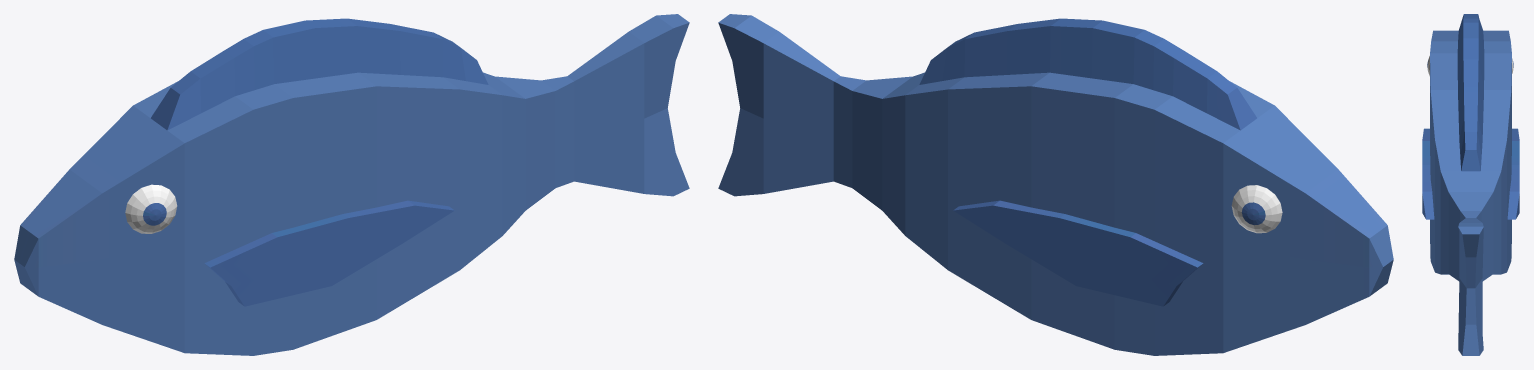
Rendered from Fish.fbx.
3 views of the same model, side by side, from view 1: azimuth 30°, elevation 25°; view 2: azimuth 150°, elevation 25°; view 3: azimuth 270°, elevation 25° (orthographic). The views are drawn at different scales.
Parts seen in each view (by area): view 1: Fish; view 2: Fish; view 3: Fish.
Boxes of the visible parts, x1,y1,x2,y2 form: Fish: (14, 14, 689, 355); Fish: (718, 14, 1393, 355); Fish: (1422, 14, 1519, 355).
Bounding box in the file's own units: 90.96 × 38.59 × 15.79.
